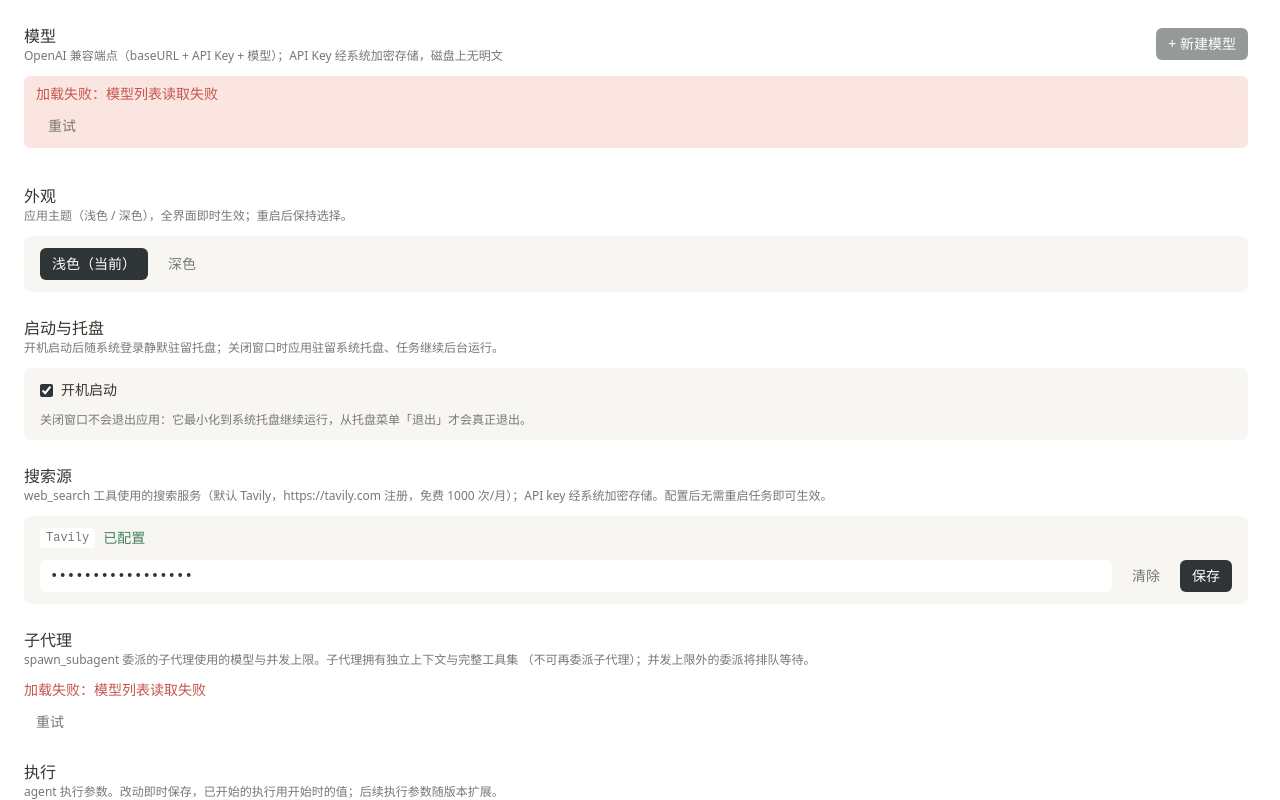
SettingsPage 初始读取失败与重试 › F22 模型列表：初读失败不当作空配置，显式重试后恢复
This screenshot has width=1280, height=800.
expect the 1st text "加载失败：模型列表读取失败" is shown: met, box x1=36 y1=84 x2=218 y2=103
expect the button with test id "profile-create" is disabled: met, box x1=1156 y1=28 x2=1248 y2=60
What coordinates should you click on to do the following:
click the button with test id "profile-settings-retry"
I would click on:
 (62, 126)
Its box is x1=36 y1=112 x2=88 y2=140.
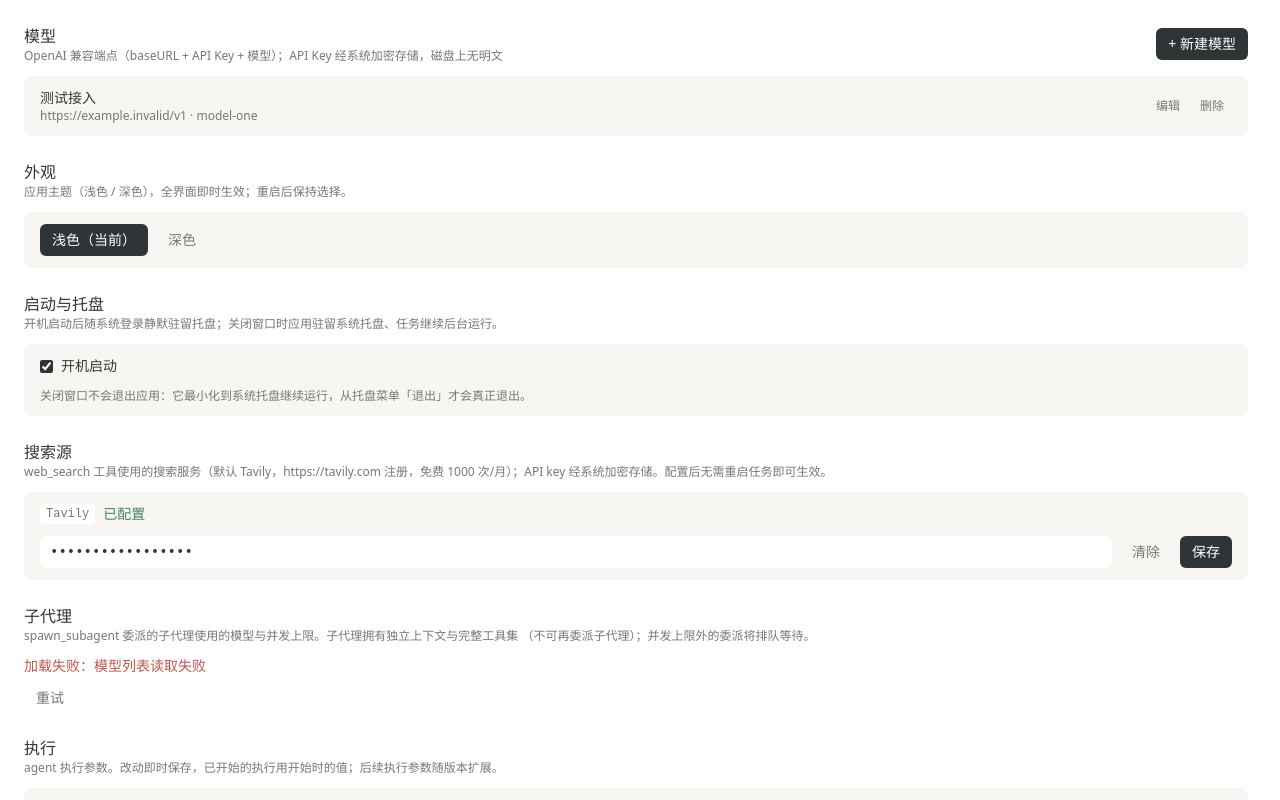
expect the text "测试接入" is shown: met, box x1=40 y1=88 x2=96 y2=107
expect the button with test id "profile-create" is enabled: met, box x1=1156 y1=28 x2=1248 y2=60
